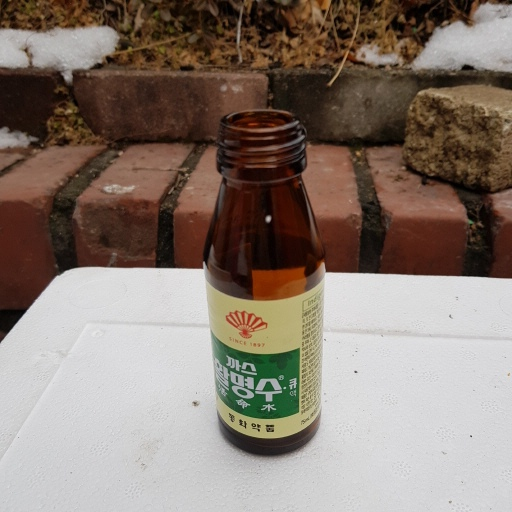Glass_3: (194, 106, 340, 462)
